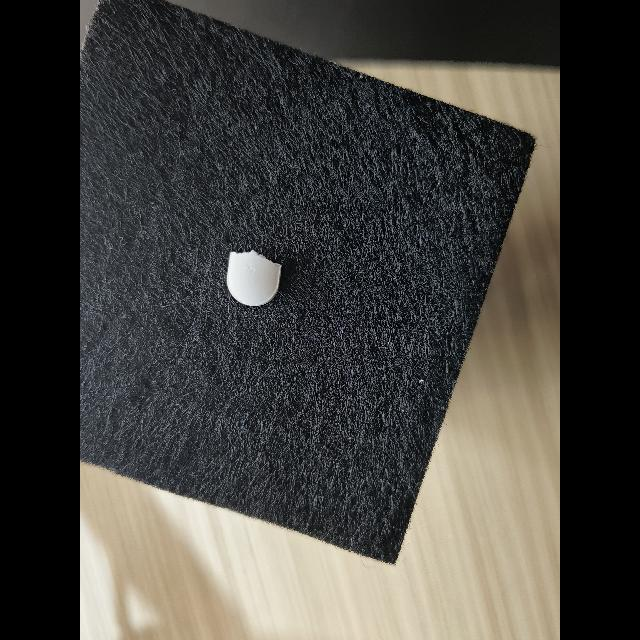Chipped Pill: (227, 250, 282, 306)
